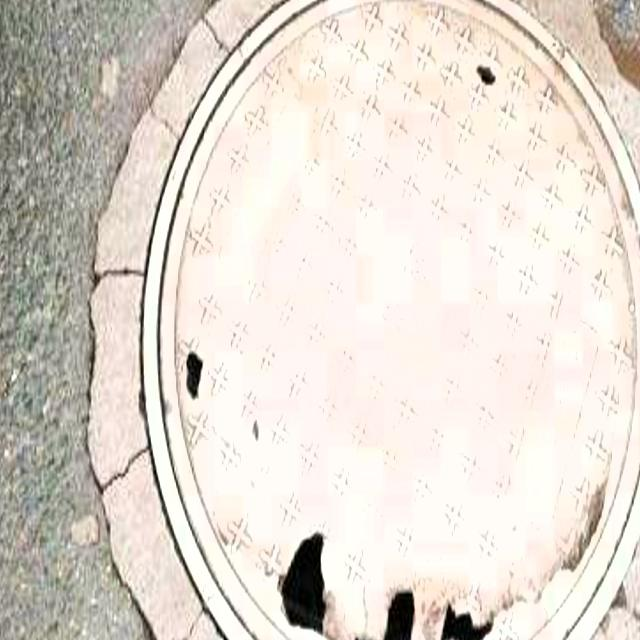broke: (111, 0, 640, 640)
